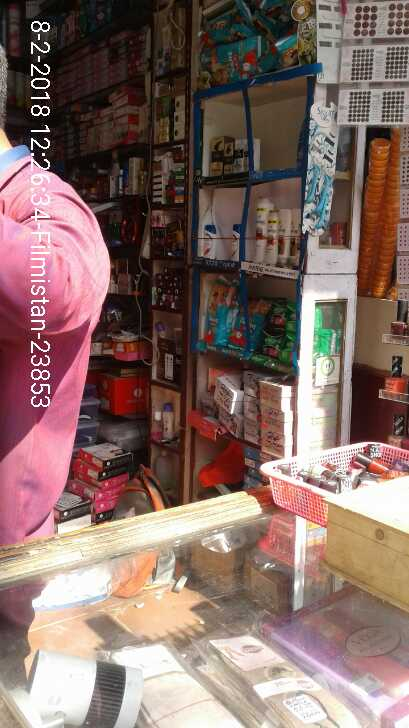venus: (308, 107, 333, 233)
